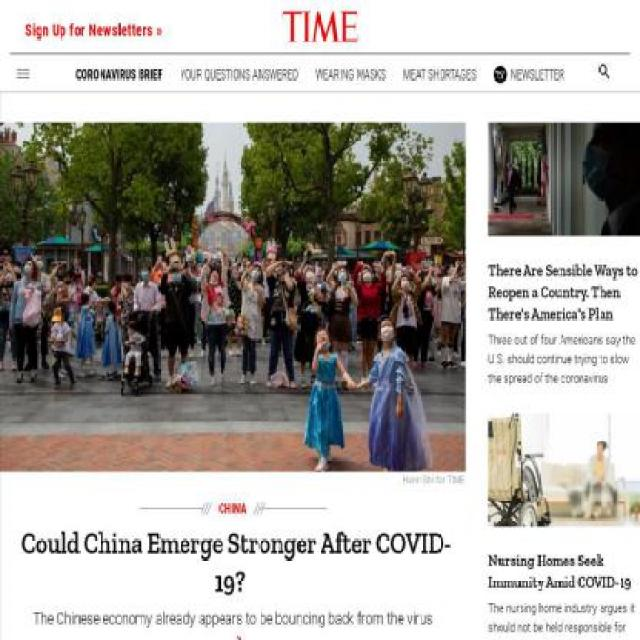button: (280, 0, 360, 54), (25, 18, 163, 42), (180, 66, 298, 82), (76, 66, 162, 82), (494, 65, 564, 83), (403, 66, 477, 82), (316, 66, 386, 82), (218, 493, 248, 524), (222, 635, 244, 639)
